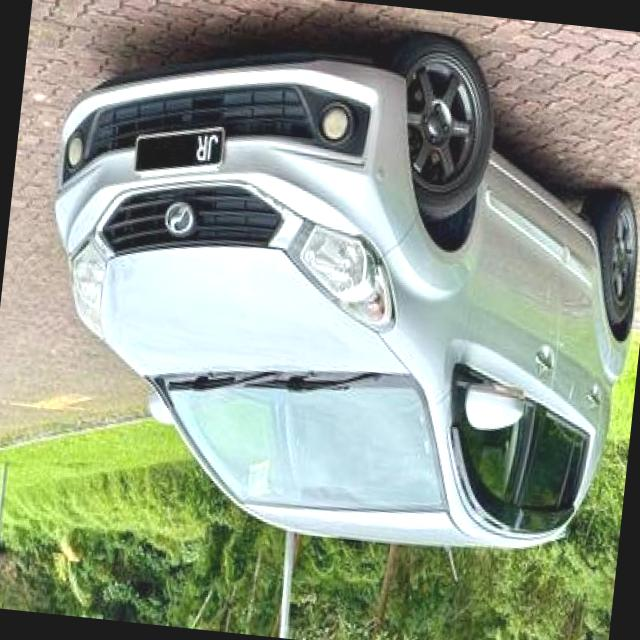PeroduaMyvi: (19, 0, 640, 573)
